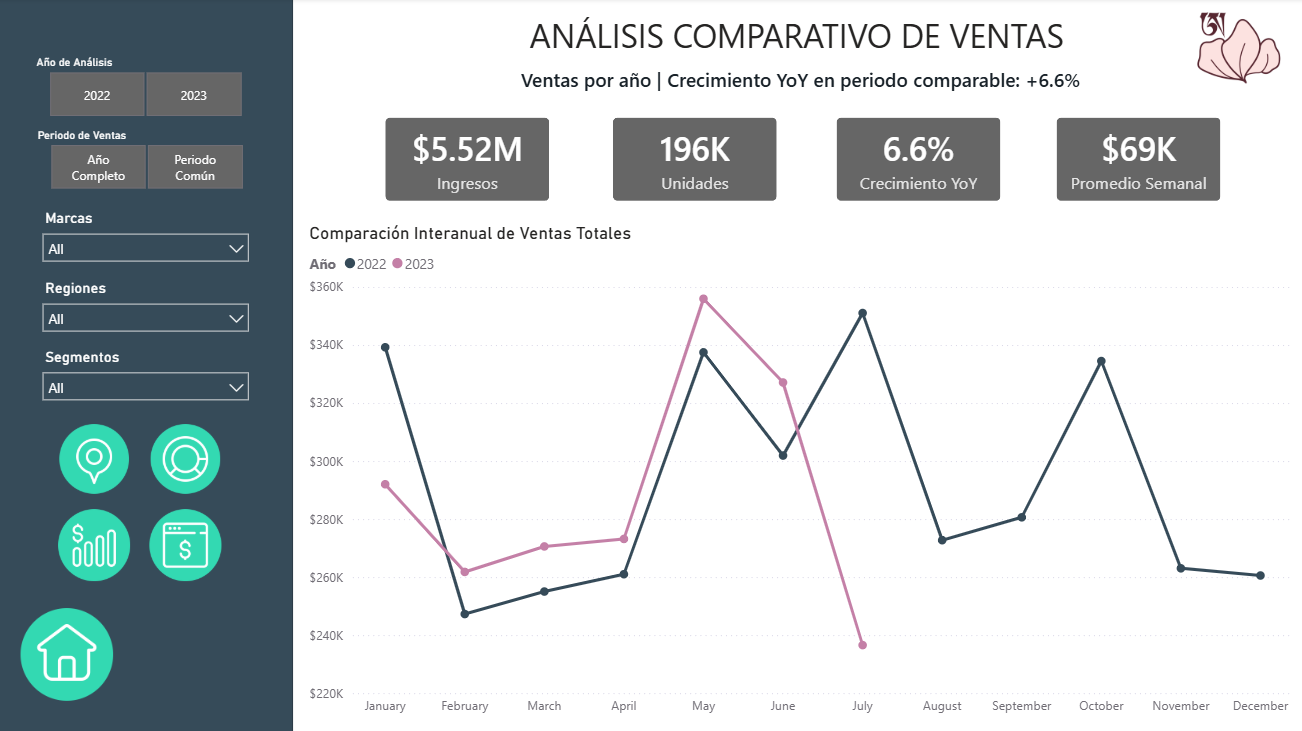

The dashboard page shown, as its layout file describes it:
{"tool":"powerbi","page":{"name":"Resumen Ejecutivo","canvas":[1280,720],"ordinal":1},"visuals":[{"type":"cardVisual","fields":{"Data":["DAX.Ventas (Según Periodo)"]},"box":[363.6,100.2,194.9,115.3],"z":0},{"type":"cardVisual","fields":{"Data":["DAX.Promedio Semanal Valor (Según Periodo)"]},"box":[1019.6,100.2,194.9,115.3],"z":1000},{"type":"lineChart","fields":{"Category":["DIM_CALENDAR.DATE.Variation.Date Hierarchy.Month"],"Series":["DIM_CALENDAR.YEAR"],"Y":["DAX.Ventas (Según Periodo)"]},"box":[300.5,219.6,971.5,489.9],"z":2000},{"type":"cardVisual","fields":{"Data":["DAX.% Crecimiento (Según Periodo)"]},"box":[804.1,100.2,194.9,115.3],"z":3000},{"type":"cardVisual","fields":{"Data":["DAX.Unidades (Según Periodo)"]},"box":[585.9,100.2,194.9,115.3],"z":4000},{"type":"textbox","box":[516,9.8,539.3,55],"z":5000},{"type":"cardVisual","fields":{"Data":["DAX.Subtitulo Dashboard"]},"box":[415.8,52.6,741,52.6],"z":6000},{"type":"image","box":[1156.8,9.8,114.9,77],"z":7000},{"type":"shape","box":[0,0,289.8,720.2],"z":8000},{"type":"slicer","fields":{"Values":["DIM_CALENDAR.YEAR"]},"box":[26.1,50.8,237.4,71.4],"z":9000},{"type":"slicer","fields":{"Values":["Periodo.Tipo"]},"box":[27.4,122.1,237.4,71.4],"z":10000},{"type":"slicer","fields":{"Values":["DIM_PRODUCT.BRAND"]},"box":[34.3,201.7,222.3,68.6],"z":11000},{"type":"slicer","fields":{"Values":["FACT_SALES.REGION"]},"box":[34.3,270.3,222.3,67.2],"z":12000},{"type":"slicer","fields":{"Values":["DIM_SEGMENT.SEGMENT"]},"box":[34.3,337.6,222.3,65.9],"z":13000},{"type":"image","title":"Resumen Ejecutivo","box":[18.3,588.2,100.3,107.6],"z":14000},{"type":"image","title":"Segmento y Marca","box":[146.8,413,75.5,75.5],"z":15000},{"type":"image","title":"Detalle de Marca","box":[57.6,498.1,75.5,75.5],"z":16000},{"type":"image","title":"Tabla Completa","box":[146.8,498.1,75.5,75.5],"z":17000},{"type":"image","title":"Región y Formato","box":[57.6,413,75.5,75.5],"z":18000}]}

Visuals, with their boxes in screenshot pixels (x1, y1, x2, y2), scaled from the page's 1280x720 canvas onto the 1302x731 screenshot:
cardVisual - DAX.Ventas (Según Periodo): {"left": 370, "top": 102, "right": 568, "bottom": 219}
cardVisual - DAX.Promedio Semanal Valor (Según Periodo): {"left": 1037, "top": 102, "right": 1235, "bottom": 219}
lineChart - DIM_CALENDAR.DATE.Variation.Date Hierarchy.Month x DIM_CALENDAR.YEAR: {"left": 306, "top": 223, "right": 1294, "bottom": 720}
cardVisual - DAX.% Crecimiento (Según Periodo): {"left": 818, "top": 102, "right": 1016, "bottom": 219}
cardVisual - DAX.Unidades (Según Periodo): {"left": 596, "top": 102, "right": 794, "bottom": 219}
textbox: {"left": 525, "top": 10, "right": 1073, "bottom": 66}
cardVisual - DAX.Subtitulo Dashboard: {"left": 423, "top": 53, "right": 1177, "bottom": 107}
image: {"left": 1177, "top": 10, "right": 1294, "bottom": 88}
shape: {"left": 0, "top": 0, "right": 295, "bottom": 730}
slicer - DIM_CALENDAR.YEAR: {"left": 27, "top": 52, "right": 268, "bottom": 124}
slicer - Periodo.Tipo: {"left": 28, "top": 124, "right": 269, "bottom": 196}
slicer - DIM_PRODUCT.BRAND: {"left": 35, "top": 205, "right": 261, "bottom": 274}
slicer - FACT_SALES.REGION: {"left": 35, "top": 274, "right": 261, "bottom": 343}
slicer - DIM_SEGMENT.SEGMENT: {"left": 35, "top": 343, "right": 261, "bottom": 410}
"Resumen Ejecutivo" image: {"left": 19, "top": 597, "right": 121, "bottom": 706}
"Segmento y Marca" image: {"left": 149, "top": 419, "right": 226, "bottom": 496}
"Detalle de Marca" image: {"left": 59, "top": 506, "right": 135, "bottom": 582}
"Tabla Completa" image: {"left": 149, "top": 506, "right": 226, "bottom": 582}
"Región y Formato" image: {"left": 59, "top": 419, "right": 135, "bottom": 496}
